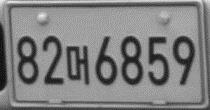2: (41, 34, 64, 84)
5: (147, 35, 169, 86)
6: (94, 35, 118, 85)
8: (120, 34, 143, 85), (16, 34, 39, 84)
9: (171, 34, 195, 85)
머: (65, 45, 89, 85)
